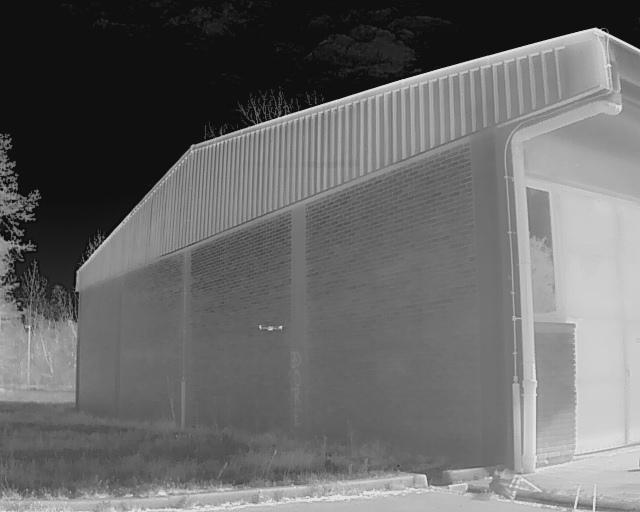drone: (250, 316, 290, 340)
